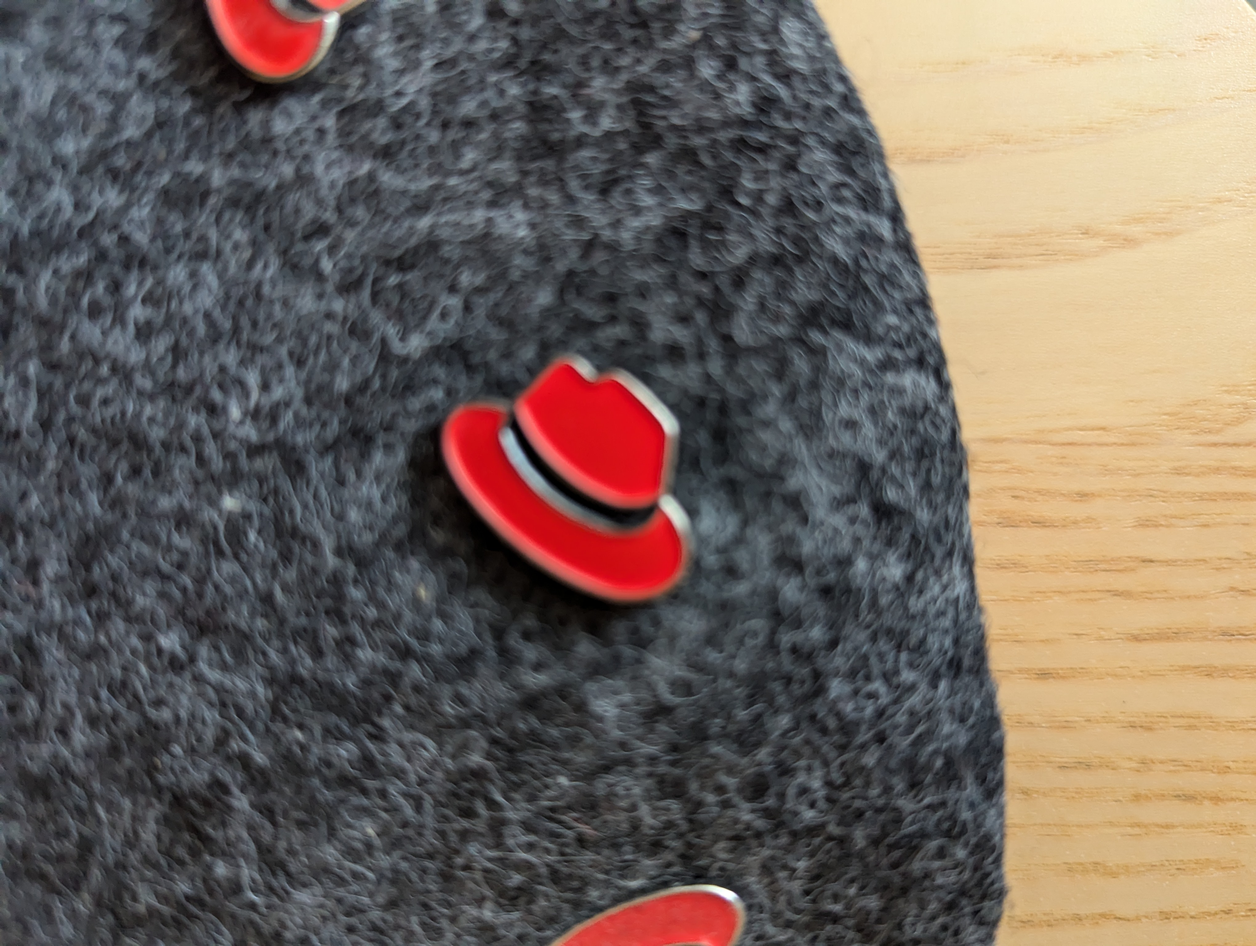Red-Hat: (345, 254, 787, 665)
